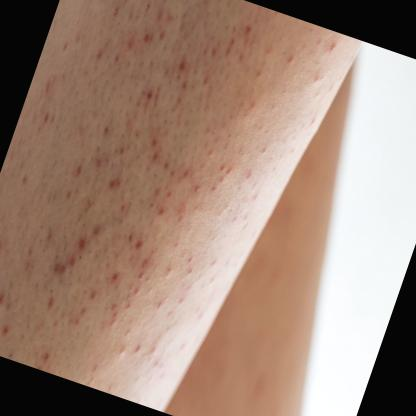Chicken Skin: (0, 0, 299, 412)
